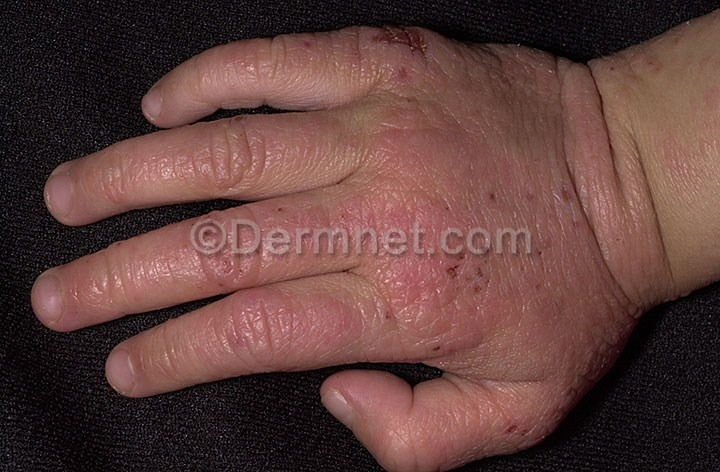Eczema: (35, 23, 705, 461)
